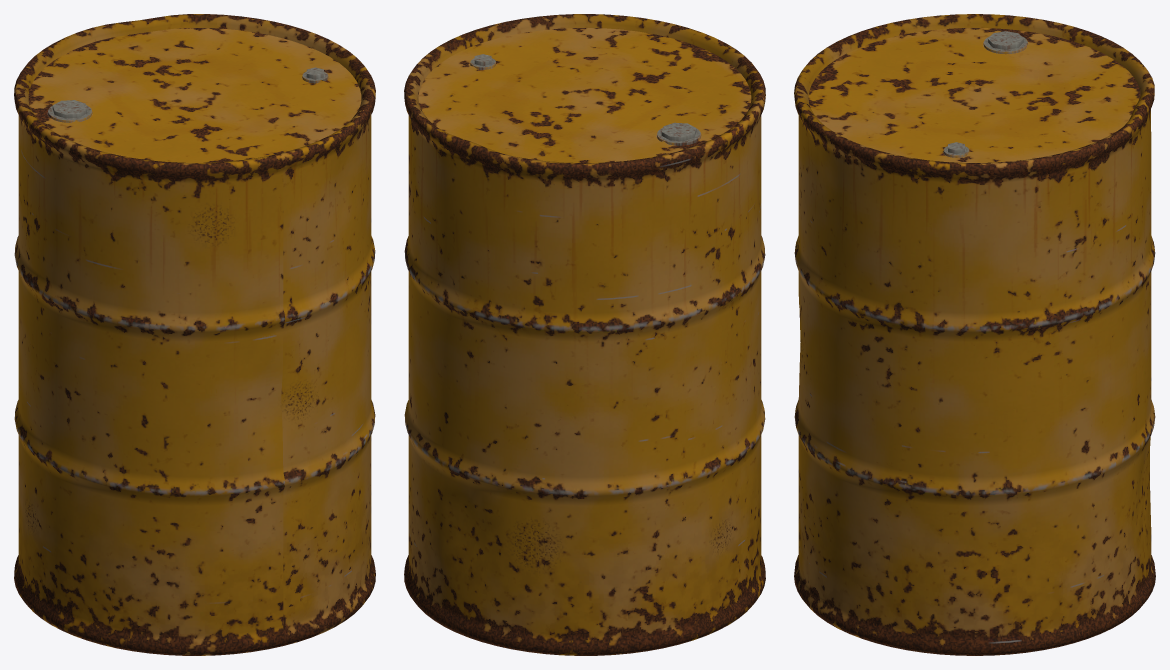
The model's file is steel-drum-yellow-v1-lod0.glb.
3 renders of one model, left to right at view 1: azimuth 30°, elevation 25°; view 2: azimuth 150°, elevation 25°; view 3: azimuth 270°, elevation 25°, orthographic.
Parts seen in each view (by area): view 1: steel-drum-yellow_lod0; view 2: steel-drum-yellow_lod0; view 3: steel-drum-yellow_lod0.
Part boxes in pixels (x1,y1,x2,y2): steel-drum-yellow_lod0: (14, 14, 375, 655); steel-drum-yellow_lod0: (404, 14, 765, 655); steel-drum-yellow_lod0: (794, 14, 1155, 655).
Bounding box in the file's own units: 0.587 × 0.88 × 0.587.
1 material, 1 textured.
